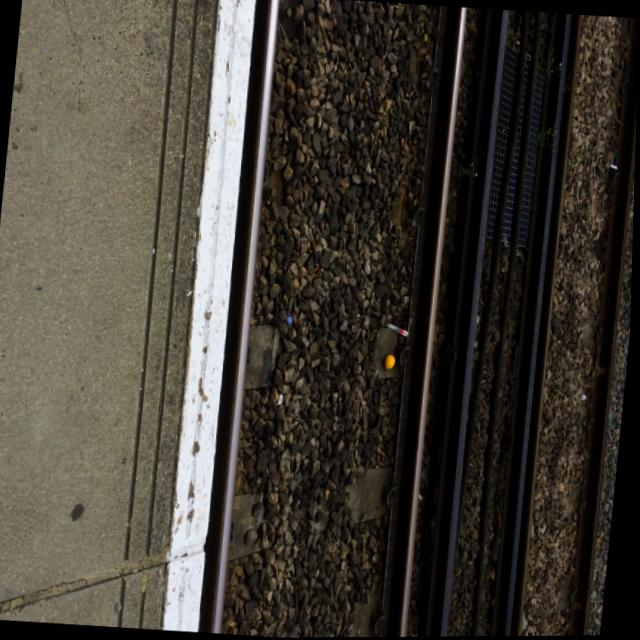Plastic: (603, 149, 623, 184), (387, 320, 413, 338), (384, 350, 399, 371), (277, 390, 287, 407), (285, 313, 297, 325)
